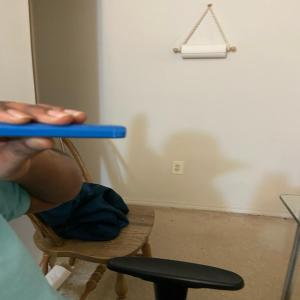Diamond-E-Ciggirate: (0, 112, 133, 146)
